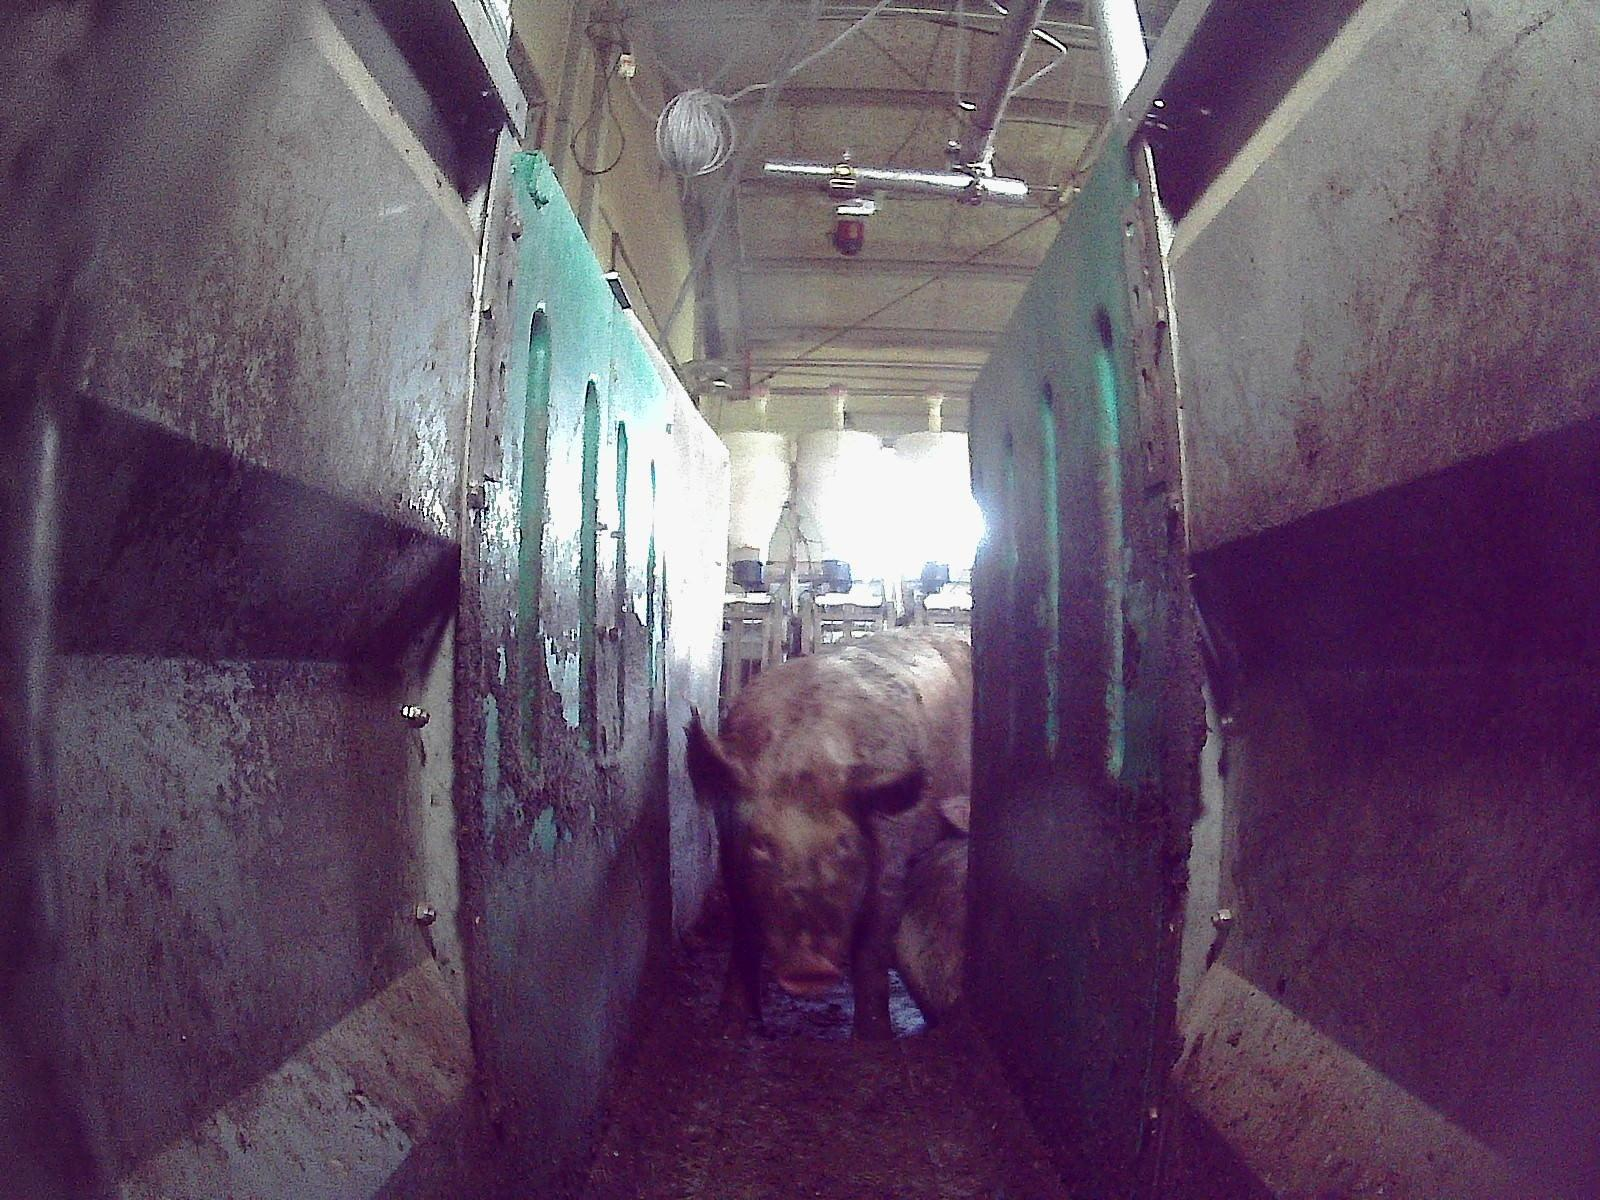Face: (729, 774, 870, 993)
